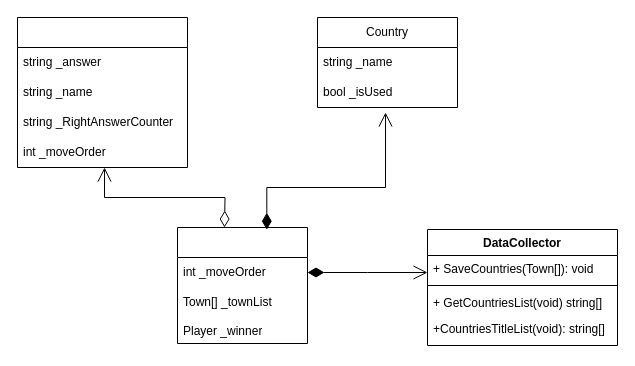
Image size: 635x366. Some labels were removed from this diagram. Each missing label, with the box of its shape:
Game: (176, 226, 308, 344)
Player: (16, 16, 188, 168)
